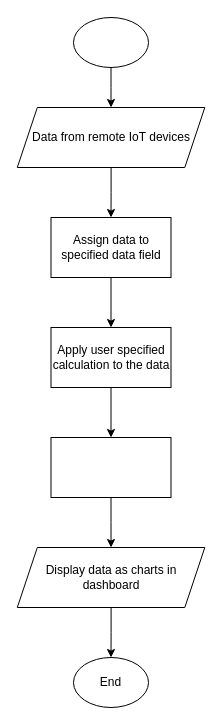
The diagram is 223 pixels wide and 725 high, and some of its shapes have lost their labels. Here are the shapes that lost their labels. From the top down, the centre of each, then its label:
point (110, 42): Start
point (110, 467): Append data to database
